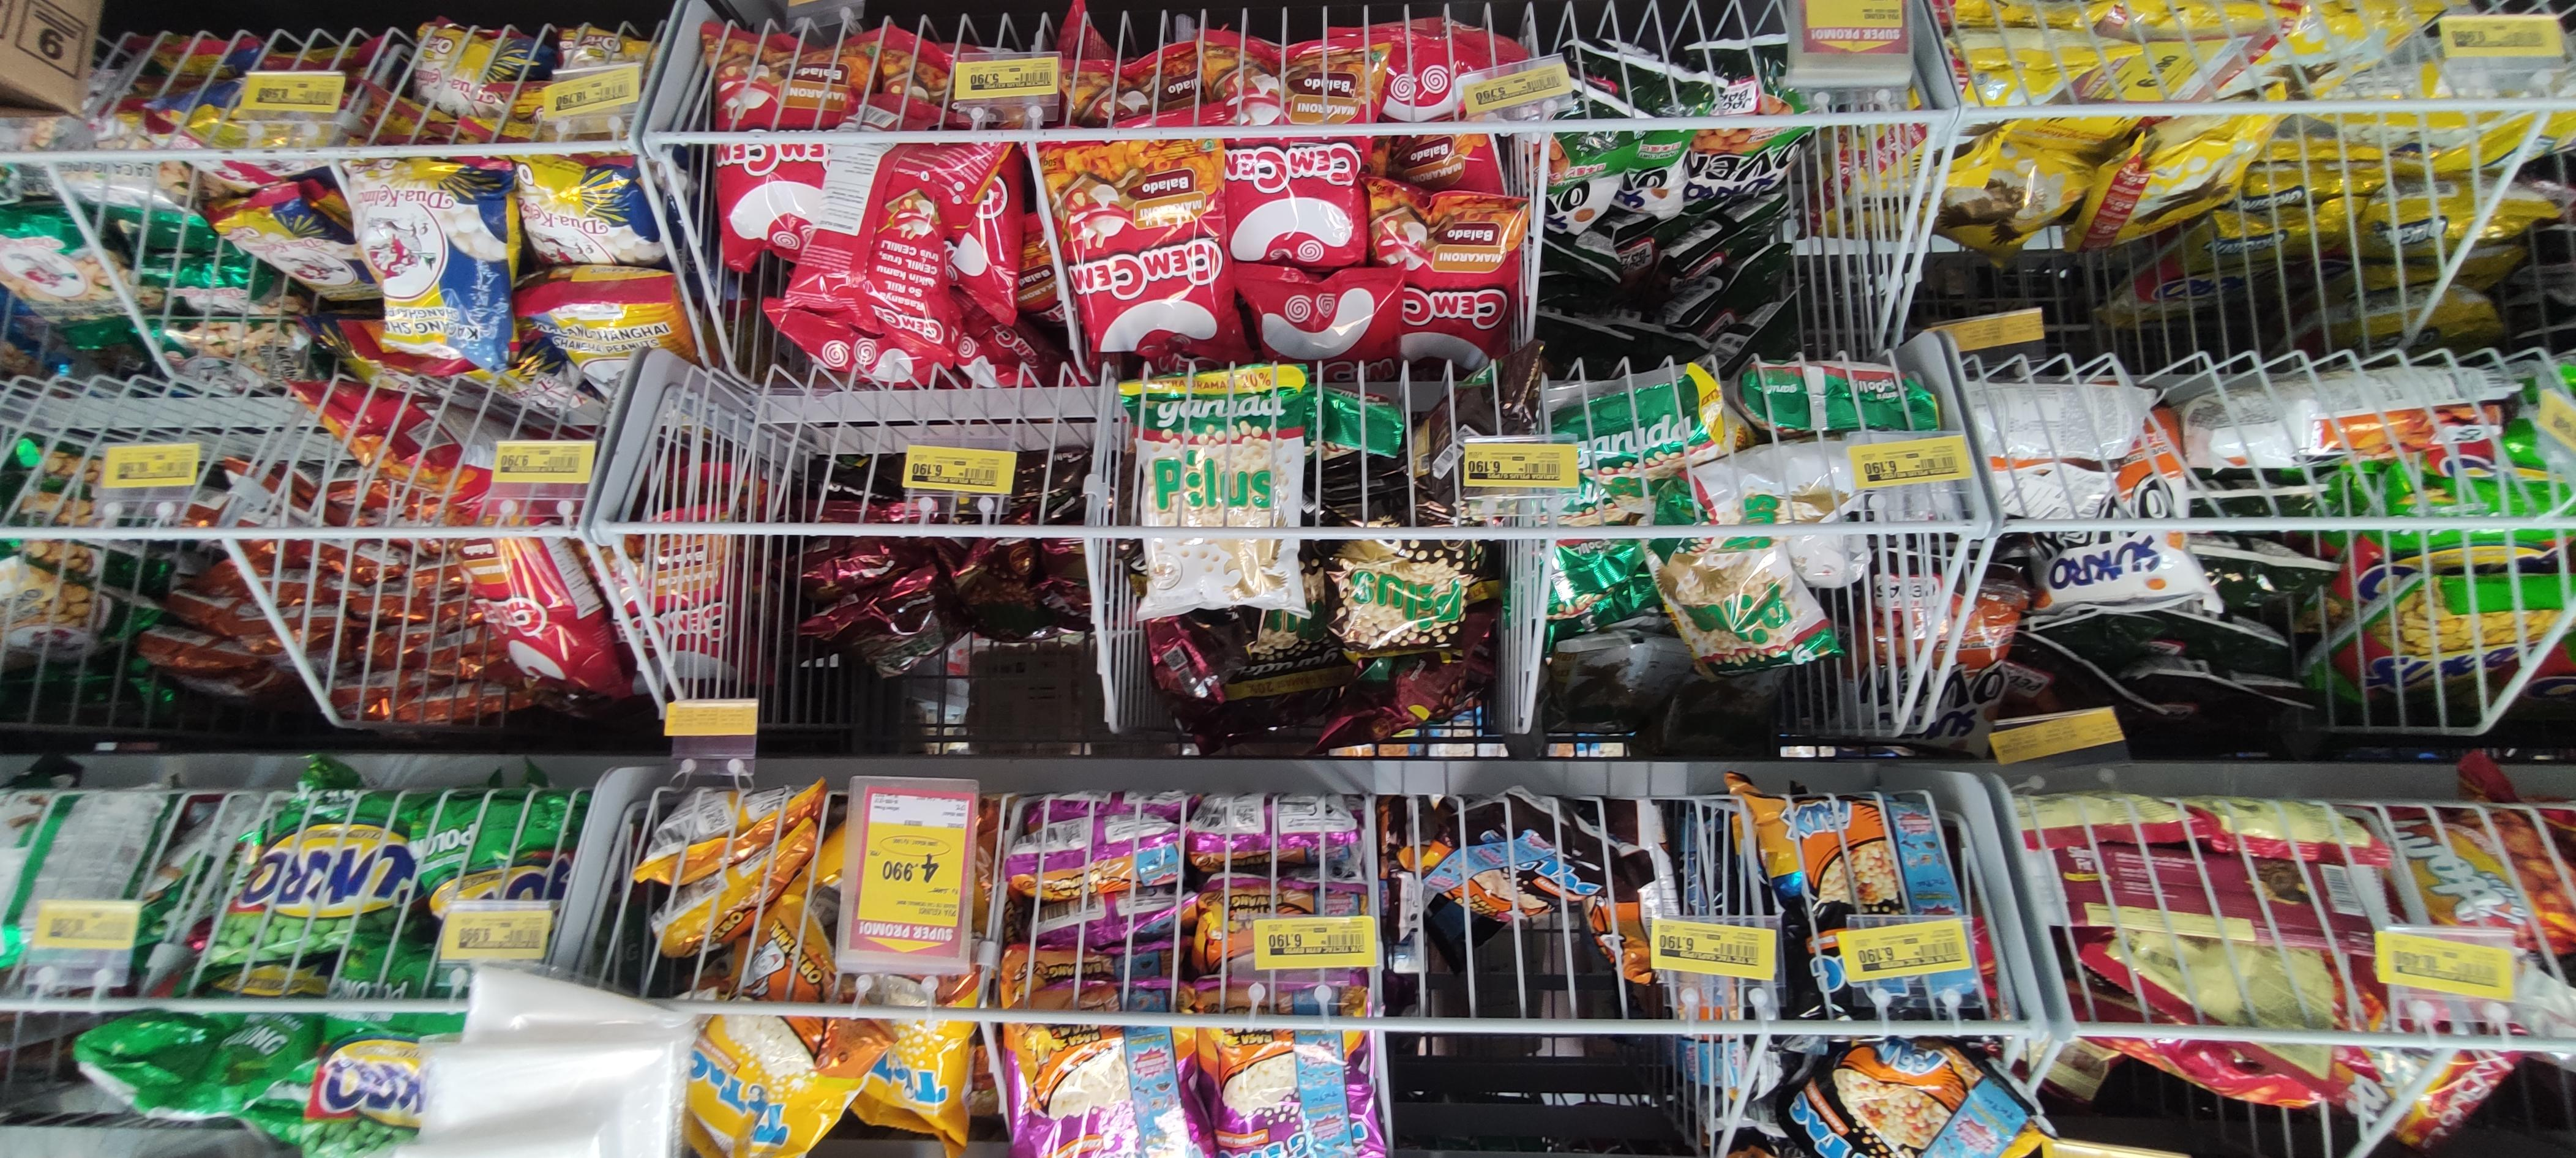90101151402100: (1332, 526, 1482, 660)
90101151604100: (1122, 379, 1308, 624)
CemCemBalado: (1035, 115, 1237, 368), (1224, 57, 1370, 271)
KacangDuaKelinciOriginal: (352, 161, 514, 379)
TicTacAyamBawang: (1201, 1023, 1383, 1158), (1019, 1023, 1199, 1158)
